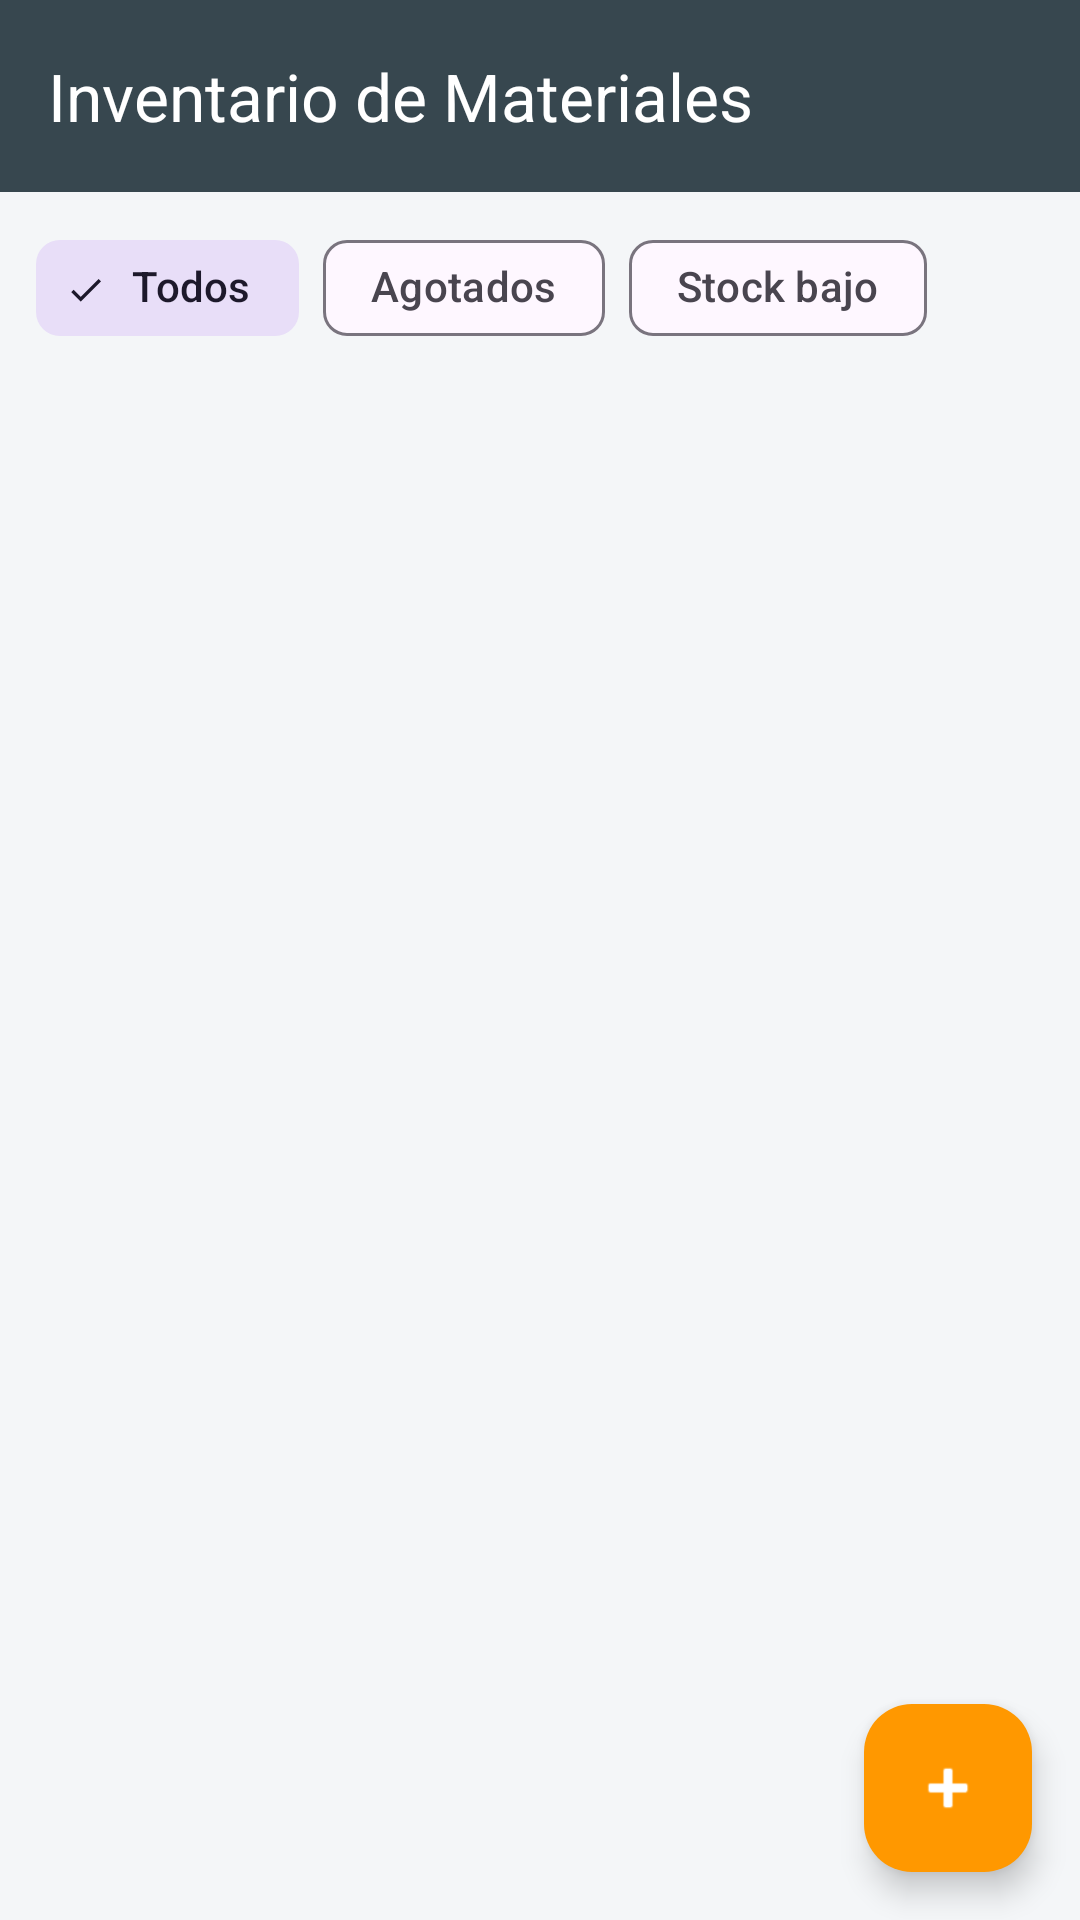

Icons on this 1080 × 1920 Android screen, each with its box as box=[x1, y1, x2, y2]:
Agregar material: box=[864, 1704, 1032, 1872]
